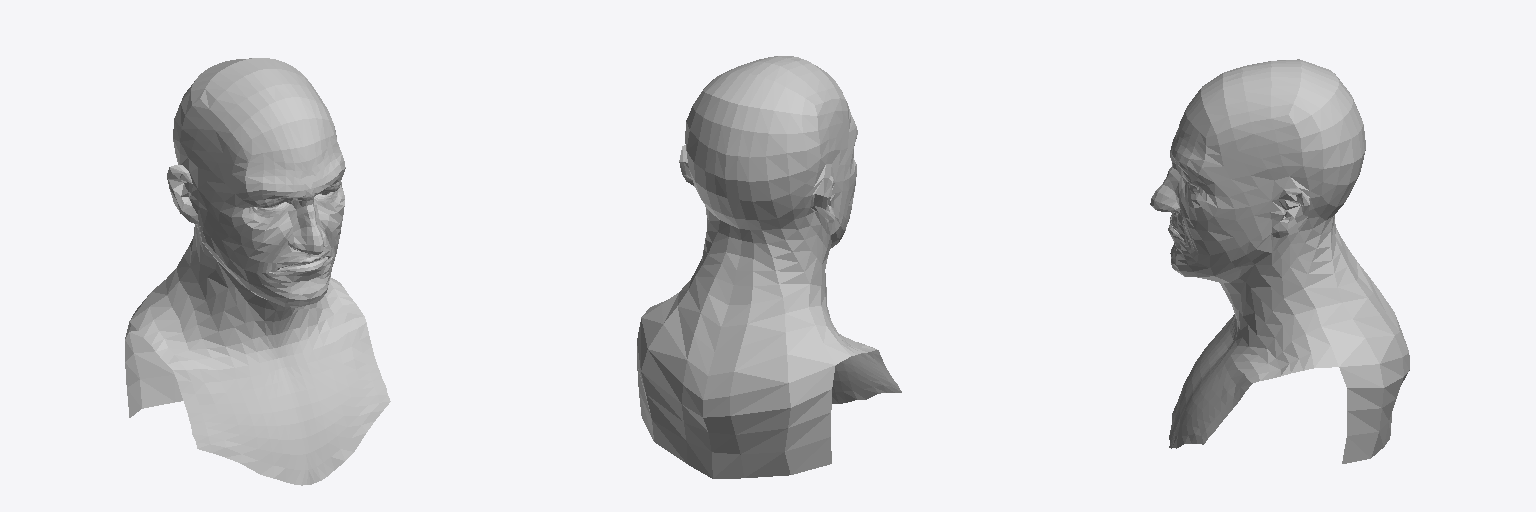
The model's file is headShape.obj.
3 renders of one model, left to right at view 1: azimuth 30°, elevation 25°; view 2: azimuth 150°, elevation 25°; view 3: azimuth 270°, elevation 25°, orthographic.
Visible parts, largest first — view 1: head Head_Grp SkinnedMesh Mesh CharacterRoot; view 2: head Head_Grp SkinnedMesh Mesh CharacterRoot; view 3: head Head_Grp SkinnedMesh Mesh CharacterRoot.
Boxes of the visible parts, box(x1,y1,x2,y2) form: head Head_Grp SkinnedMesh Mesh CharacterRoot: box(125, 58, 390, 485); head Head_Grp SkinnedMesh Mesh CharacterRoot: box(637, 56, 901, 478); head Head_Grp SkinnedMesh Mesh CharacterRoot: box(1150, 59, 1409, 463).
Size of the model in its own units: 26.6 by 47.74 by 29.65.